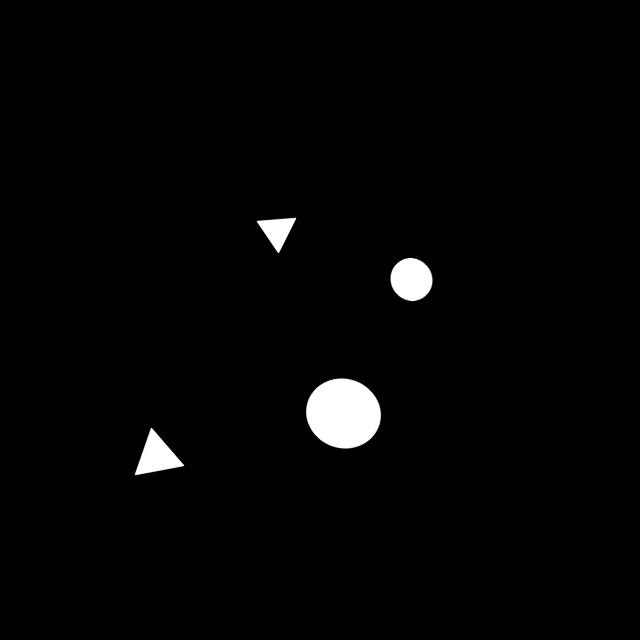Circle: (294, 366, 389, 465), (378, 252, 444, 310)
Triangle: (122, 416, 192, 483), (243, 210, 308, 260)
